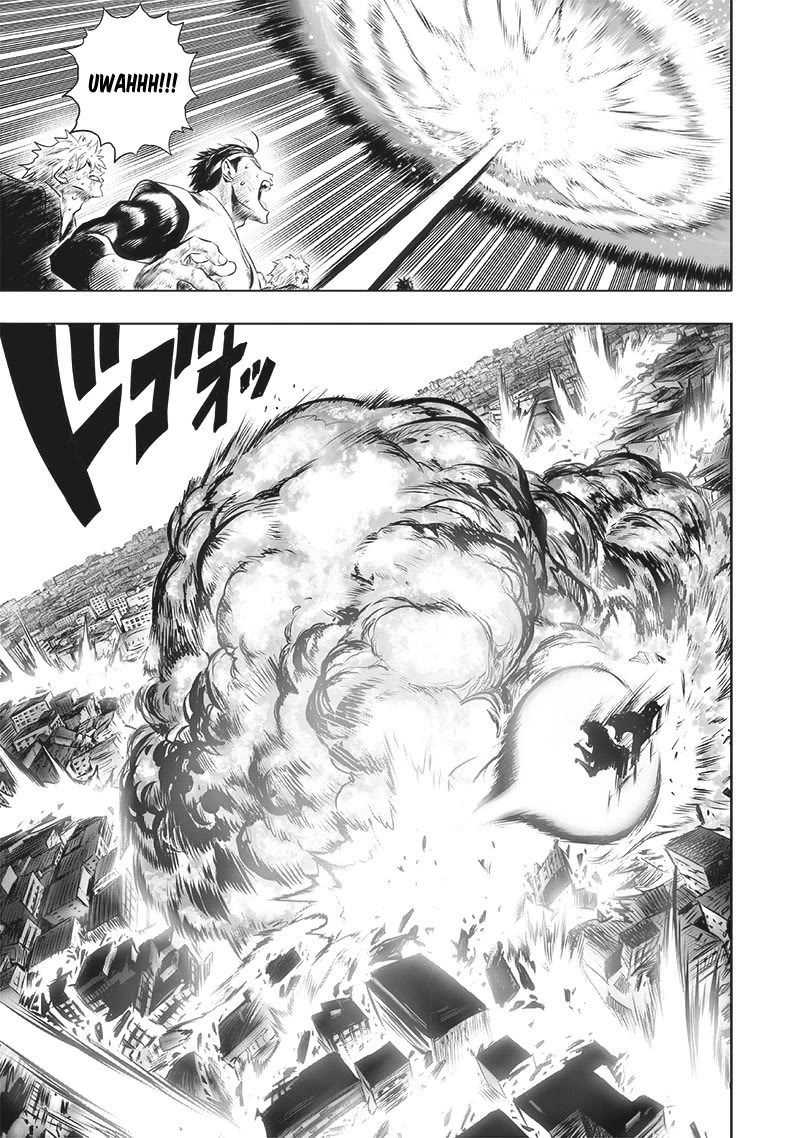bubble: (60, 3, 198, 161)
